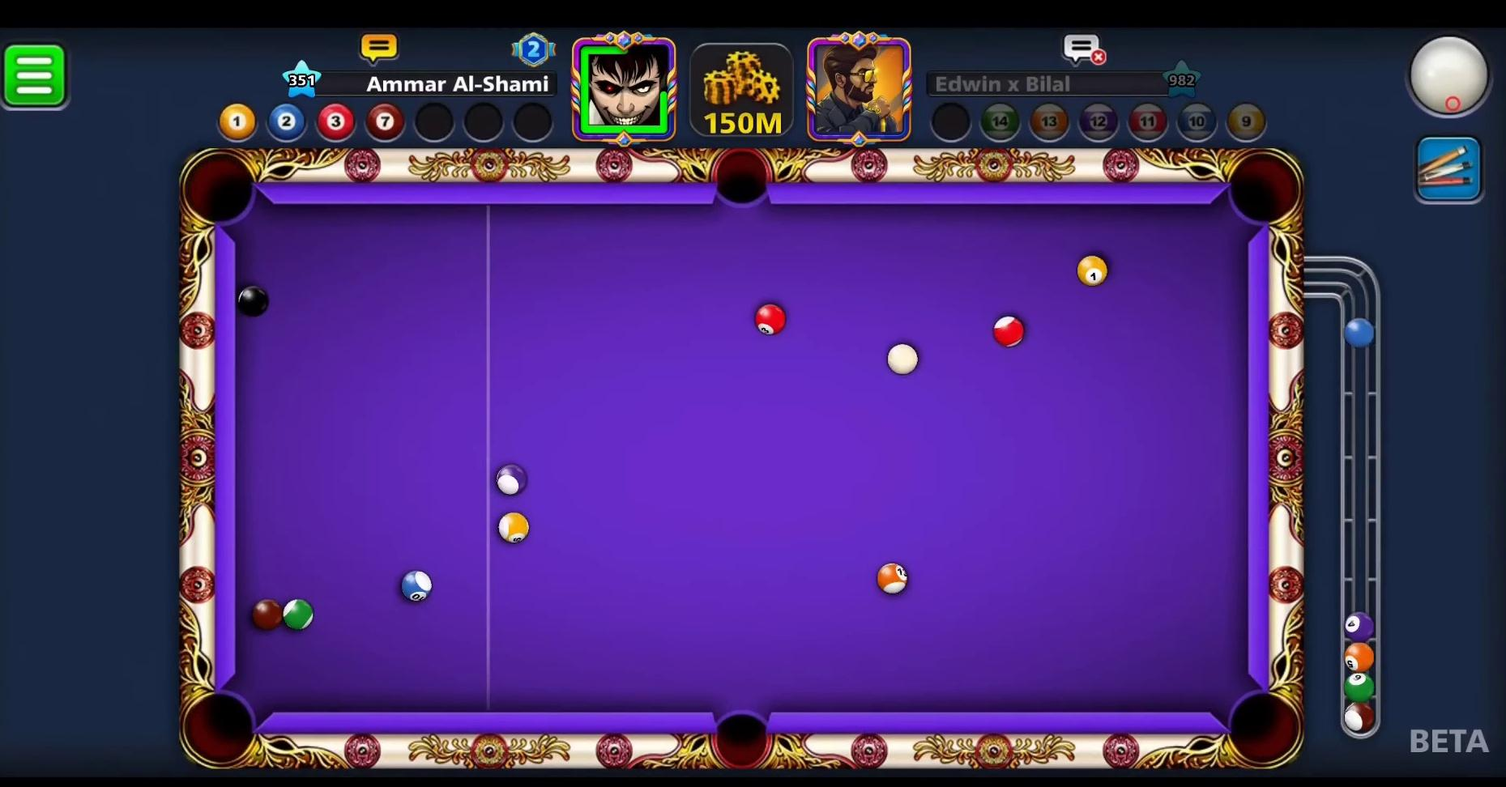Ball: (388, 559, 443, 612), (735, 304, 801, 345), (241, 587, 292, 638), (484, 506, 535, 553), (225, 281, 278, 323), (276, 590, 324, 636), (871, 557, 922, 595), (1071, 254, 1118, 294), (487, 463, 536, 499), (991, 313, 1029, 347)
Hole: (1207, 680, 1312, 776), (174, 142, 266, 234), (1222, 144, 1303, 234), (175, 688, 263, 764), (700, 144, 784, 219), (702, 703, 780, 778)
Play_Area: (236, 204, 1247, 712)
Spin: (1404, 24, 1503, 138)
White: (879, 336, 926, 383)
